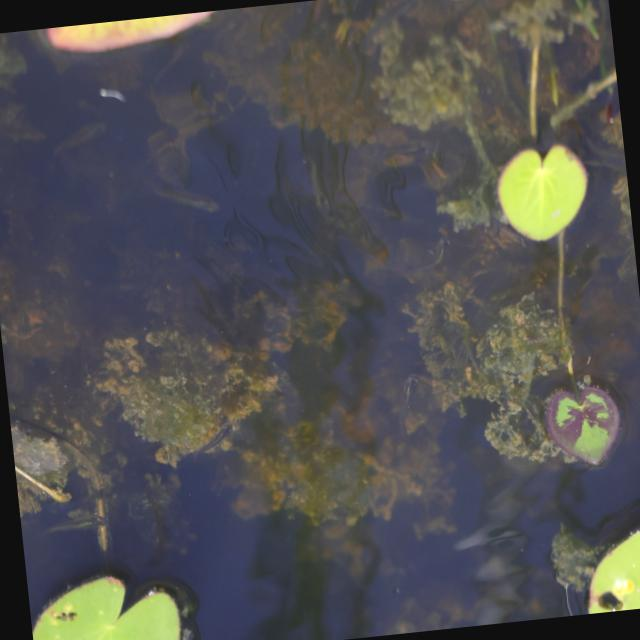Sivrisinek Baligi: (152, 174, 220, 218), (184, 412, 235, 469), (42, 124, 104, 157), (394, 368, 424, 431)
